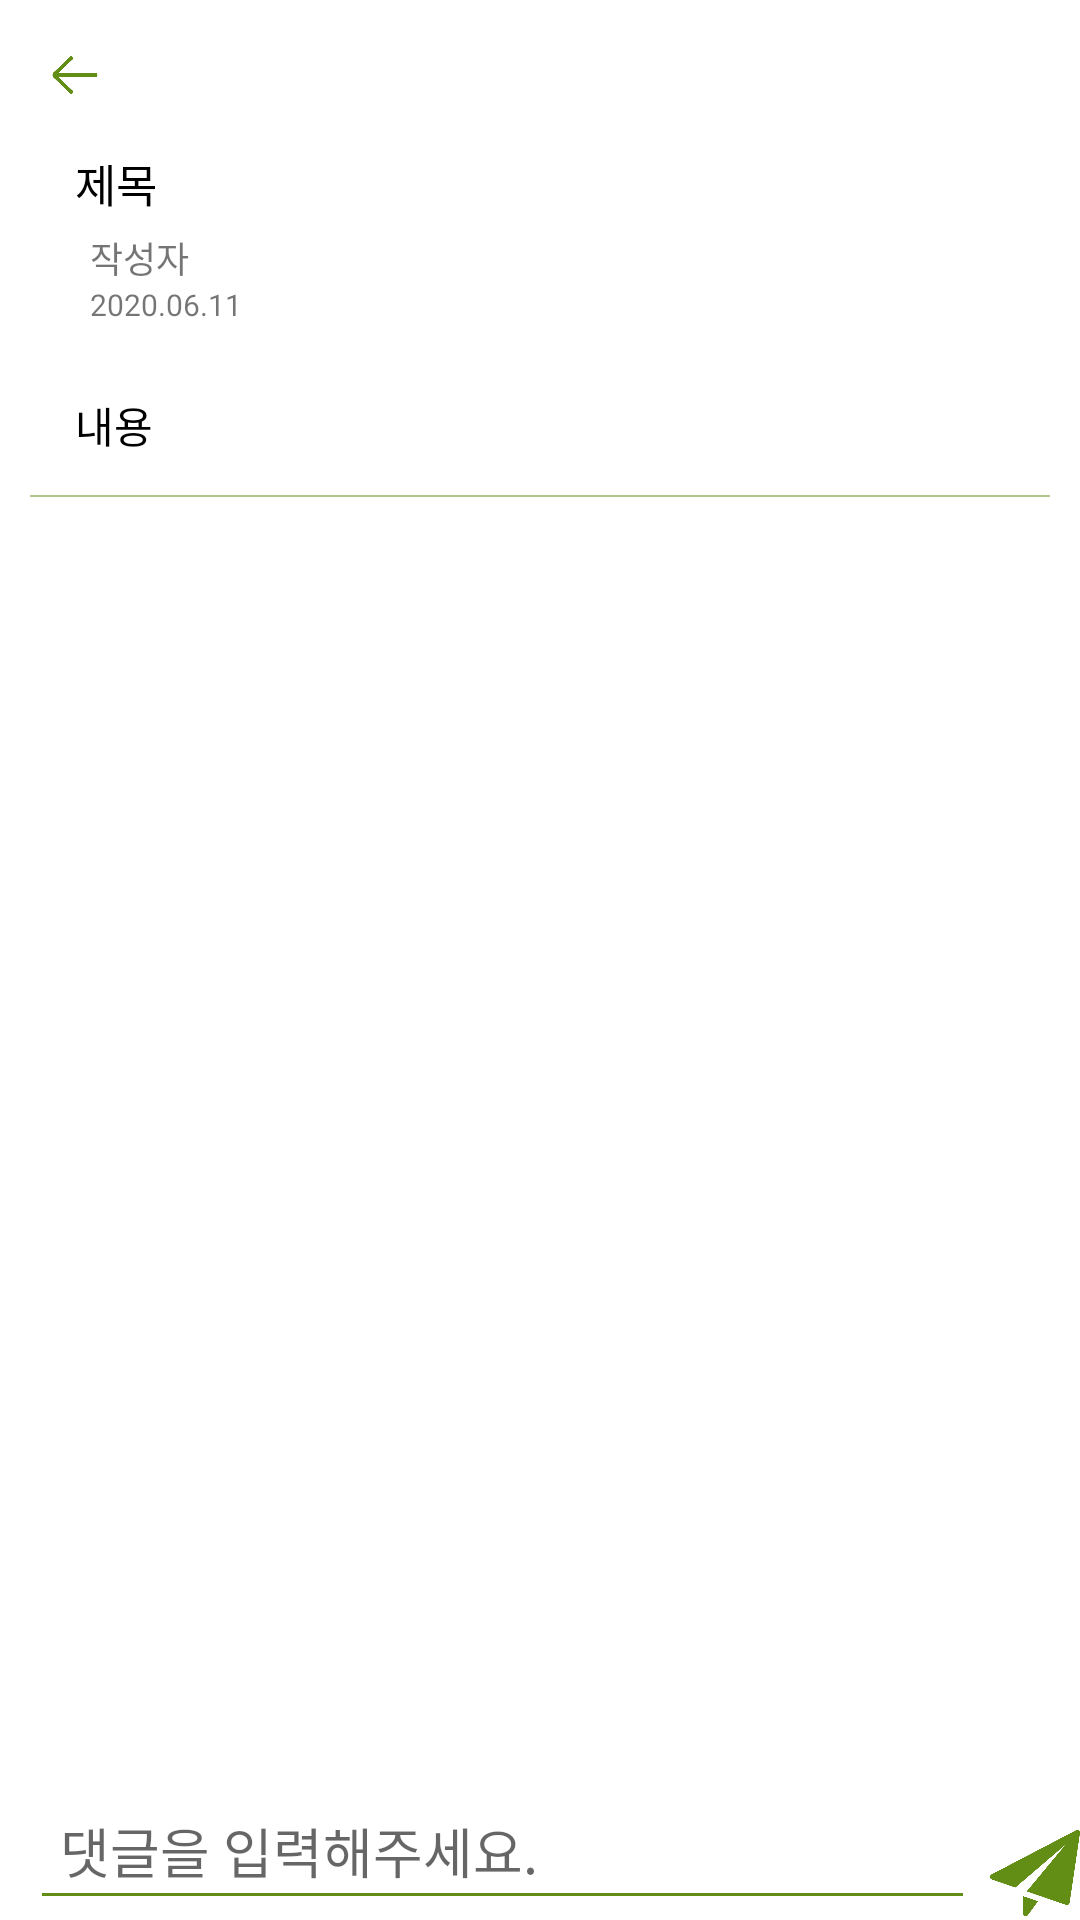

Named icons in this screenshot (1080x1920) and their bounding boxes, bbox=(x1, y1, x2, y2):
back: bbox=(52, 56, 98, 94)
sender: bbox=(990, 1830, 1080, 1916)
